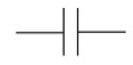Capacitor: (55, 5, 83, 57)
